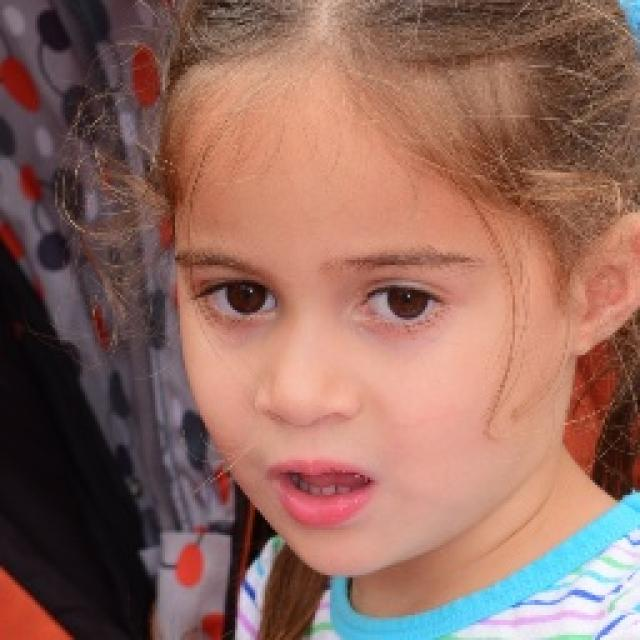earlobe: (567, 210, 640, 357)
